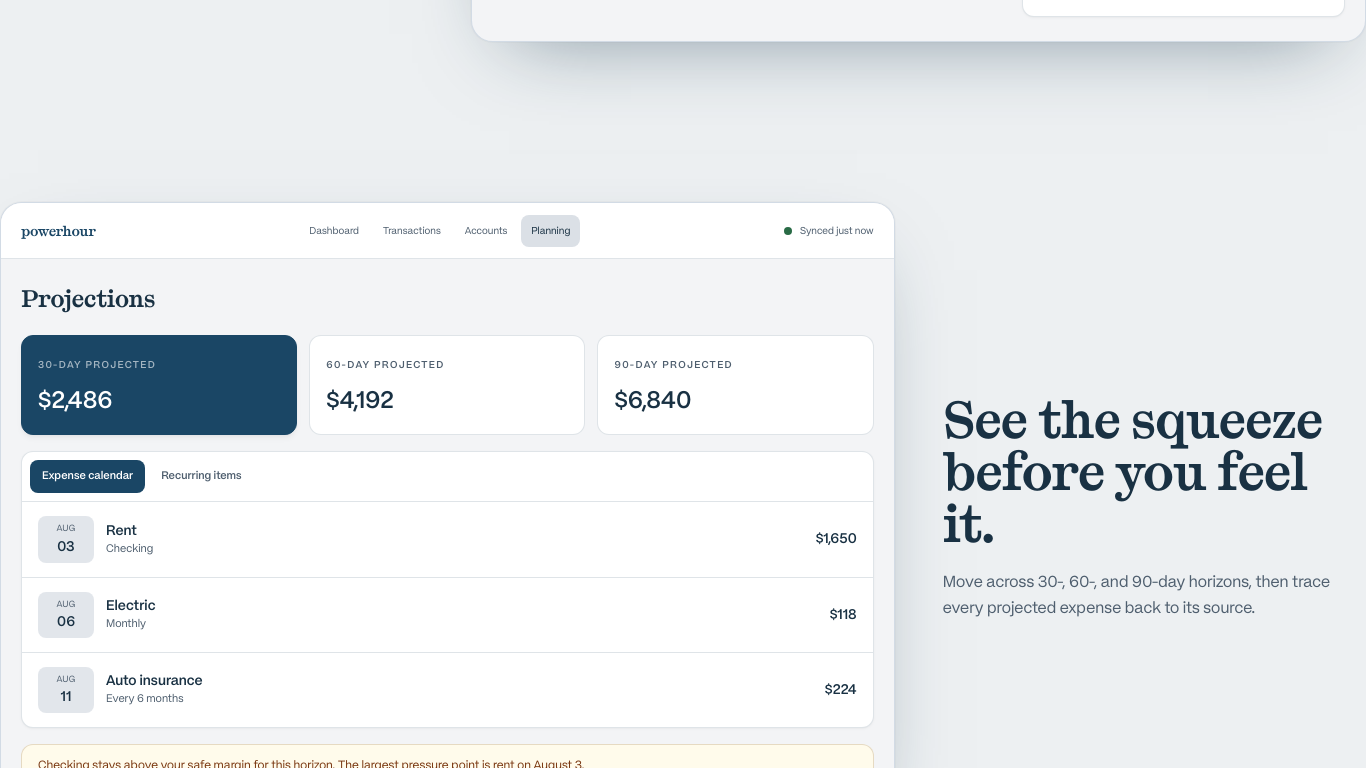
ProductWorkspace › updates forecast horizons and switches to recurring items
(page scrolled)
Click the button "90-day projected $6,840".
click(681, 365)  # box [597,335,874,435]
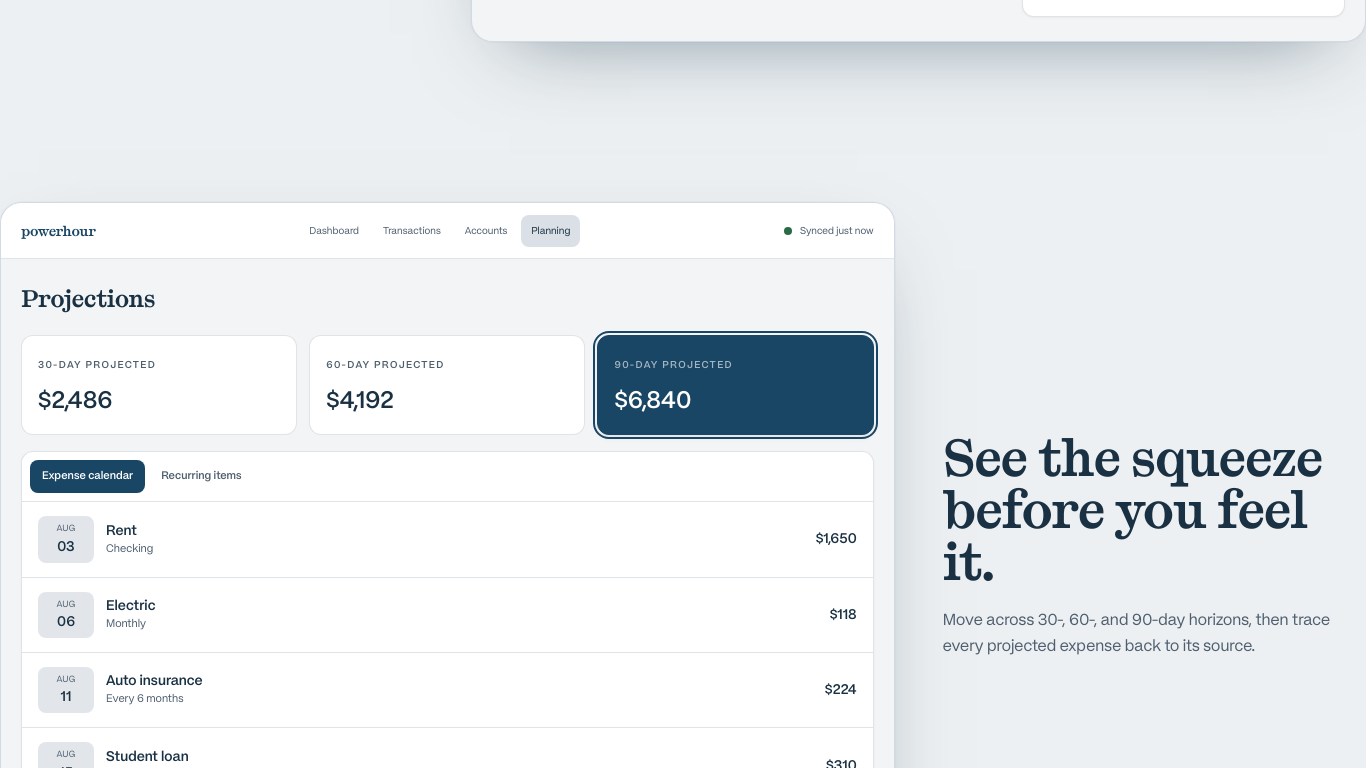
Now the text "Student loan" is shown, box [106,750,189,764]
Click the button "Recurring items".
click(201, 476)  # box [149,460,254,493]
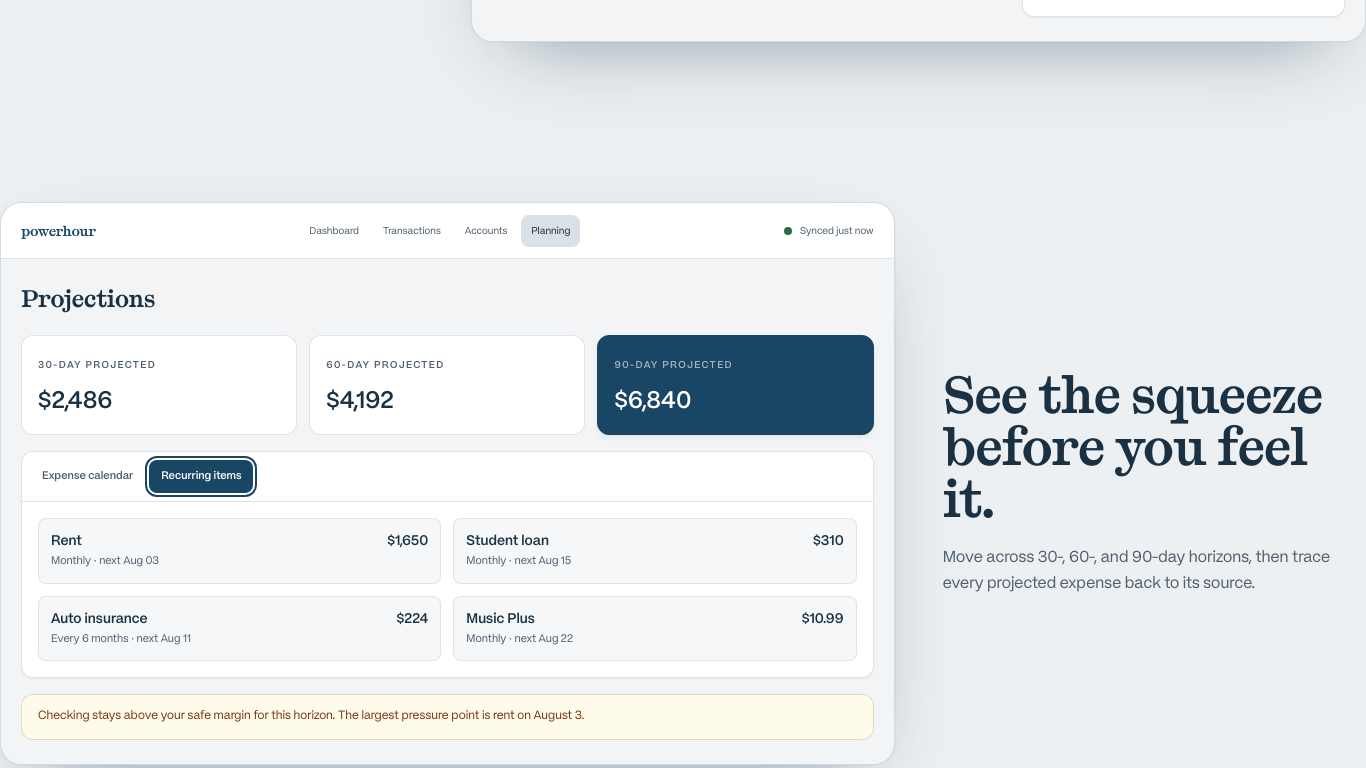
Expected: the text "Checking stays above your safe margin" is shown, [38,710,584,722]
Now the text "Every 6 months · next Aug 11" is shown, box [51,631,191,648]
